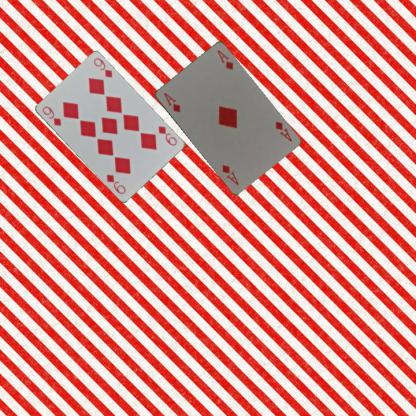9d: (155, 123, 178, 147), (40, 103, 62, 128)
Ad: (161, 89, 182, 114), (272, 118, 293, 143)
